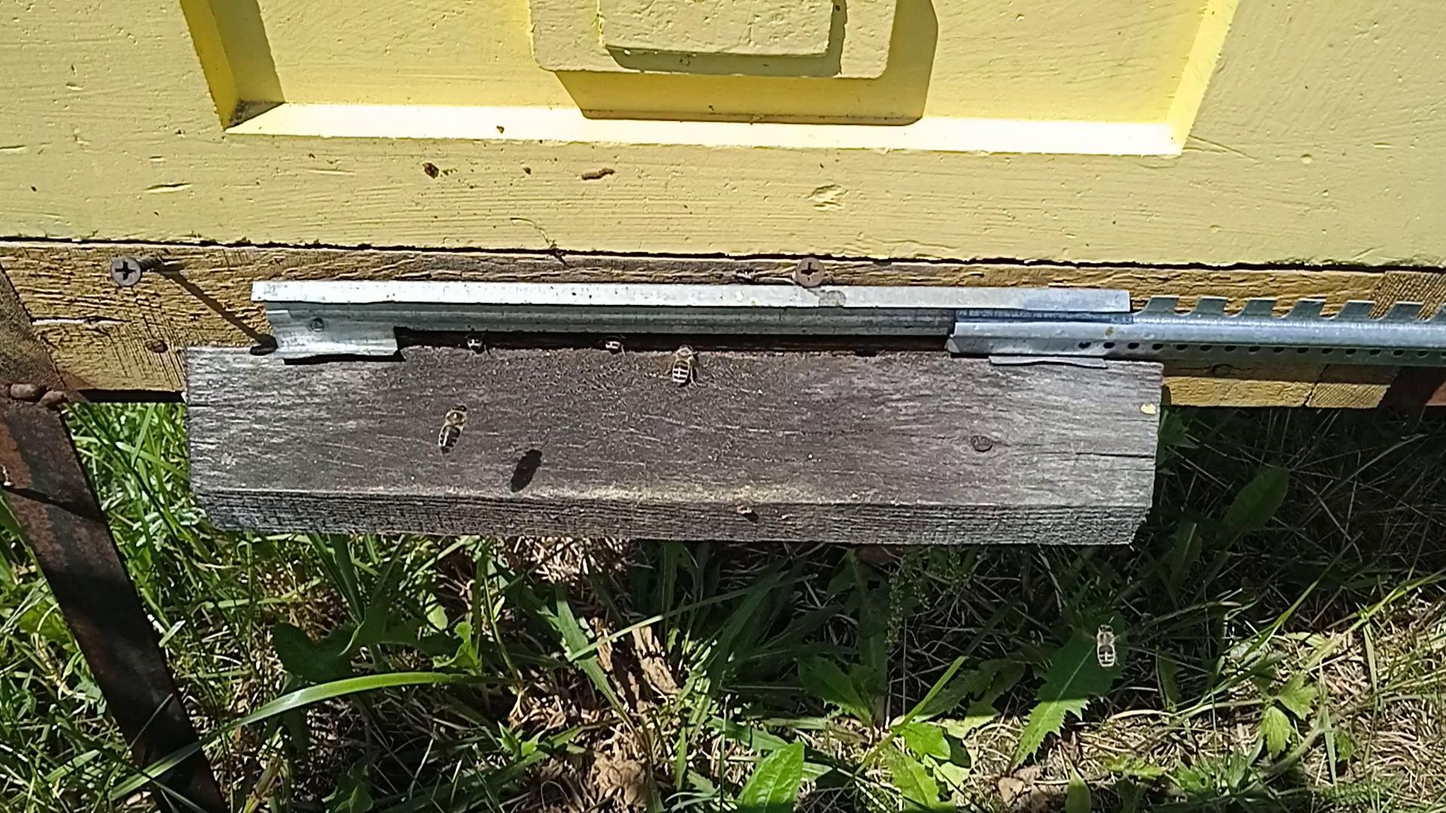worker-bee: (436, 403, 470, 452), (668, 341, 699, 388), (1095, 623, 1117, 669), (598, 332, 627, 354), (461, 331, 488, 353)
